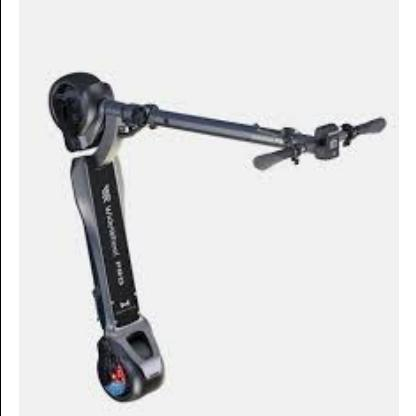bike: (48, 69, 390, 406)
